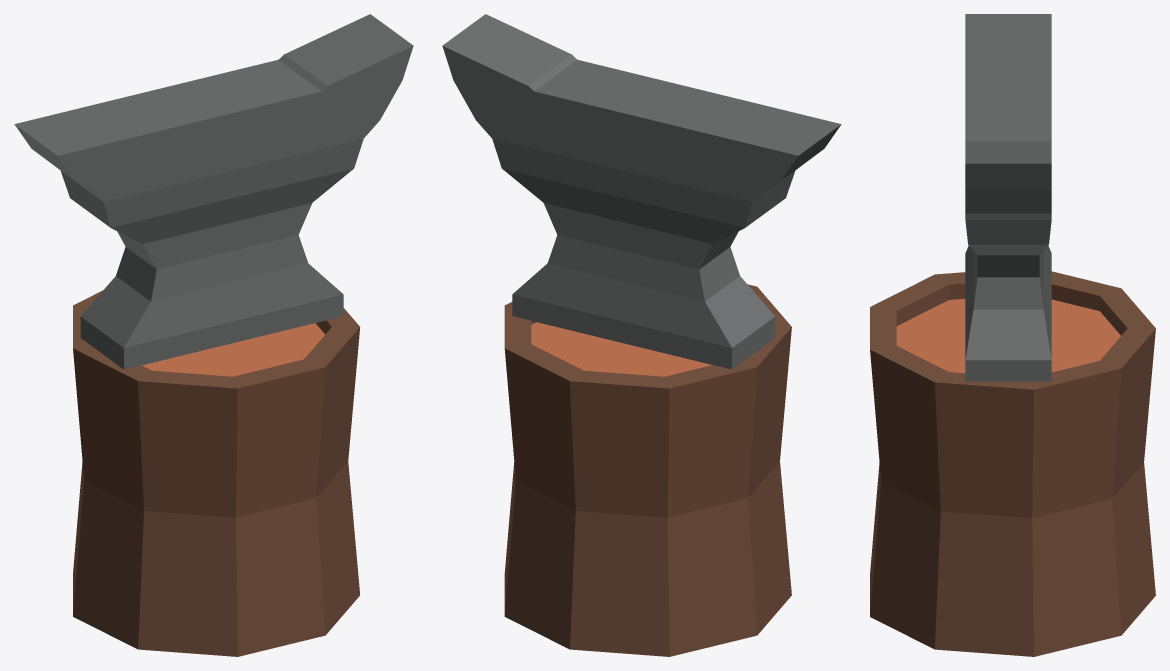
Rendered from Anvil_4_Gray.fbx.
3 renders of one model, left to right at view 1: azimuth 30°, elevation 25°; view 2: azimuth 150°, elevation 25°; view 3: azimuth 270°, elevation 25°, orthographic.
Visible parts, largest first — view 1: Anvil_4_Gray_Part_1, Anvil_4_Gray_Part_3, Anvil_4_Gray_Part_2; view 2: Anvil_4_Gray_Part_1, Anvil_4_Gray_Part_3, Anvil_4_Gray_Part_2; view 3: Anvil_4_Gray_Part_1, Anvil_4_Gray_Part_3, Anvil_4_Gray_Part_2.
Boxes of the visible parts, x1=… form: Anvil_4_Gray_Part_1: x1=73, y1=290, x2=360, y2=656; Anvil_4_Gray_Part_3: x1=14, y1=14, x2=413, y2=369; Anvil_4_Gray_Part_2: x1=142, y1=323, x2=324, y2=376; Anvil_4_Gray_Part_1: x1=504, y1=284, x2=791, y2=656; Anvil_4_Gray_Part_3: x1=442, y1=14, x2=841, y2=369; Anvil_4_Gray_Part_2: x1=531, y1=322, x2=711, y2=376; Anvil_4_Gray_Part_1: x1=870, y1=271, x2=1155, y2=656; Anvil_4_Gray_Part_3: x1=965, y1=14, x2=1051, y2=381; Anvil_4_Gray_Part_2: x1=896, y1=298, x2=1120, y2=373.
Bounding box in the file's own units: 97.15 × 136 × 67.89.
